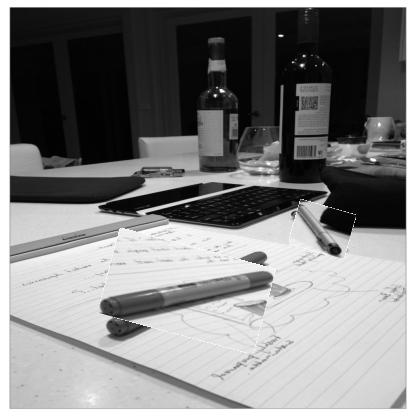Pen: (102, 238, 271, 344), (290, 203, 354, 255)
